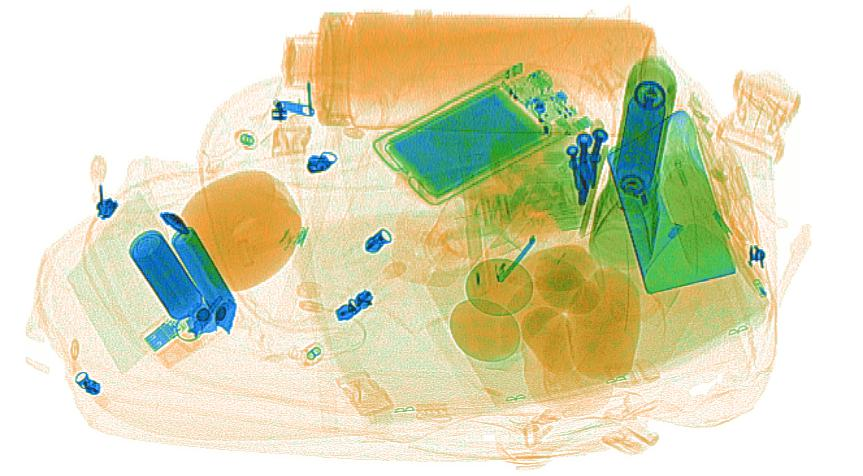USBFlashDisk: (143, 317, 190, 353)
battery: (129, 229, 206, 318), (170, 229, 235, 316), (615, 96, 667, 191)
